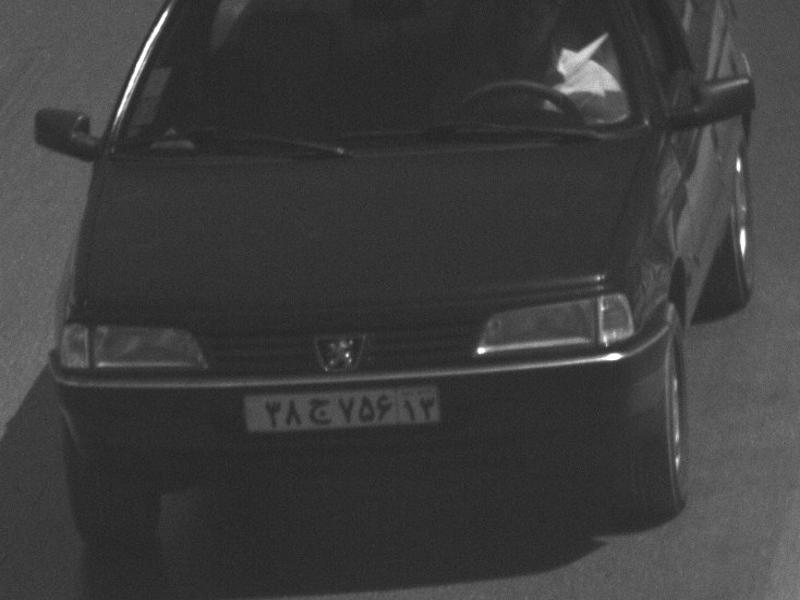Plate: (247, 388, 439, 426)
